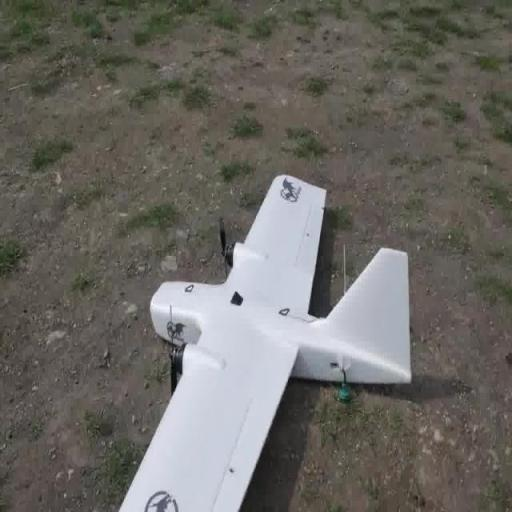uav: (114, 164, 412, 512)
